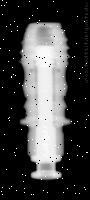Cowellmedi: (19, 21, 71, 180)
